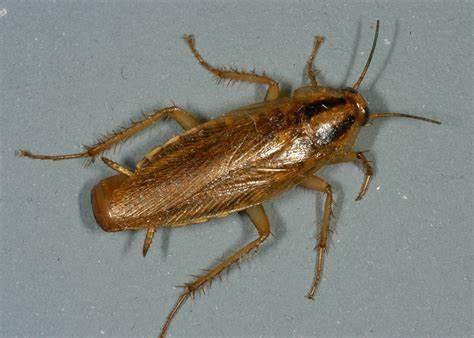cockroach: (88, 68, 378, 269)
